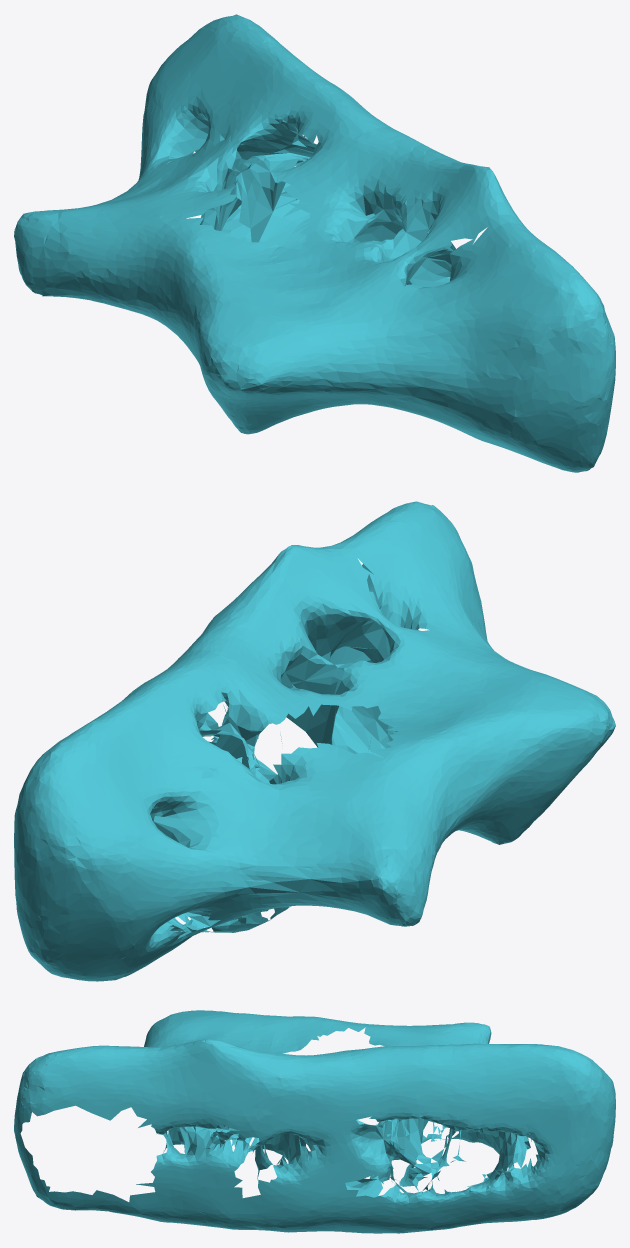
3 views of the same model, one above another, from view 1: azimuth 30°, elevation 25°; view 2: azimuth 150°, elevation 25°; view 3: azimuth 270°, elevation 25° (orthographic). The views are drawn at different scales.
Parts seen in each view (by area): view 1: Renderer Node; view 2: Renderer Node; view 3: Renderer Node.
Boxes of the visible parts, bbox=[...] form: Renderer Node: bbox=[14, 14, 615, 472]; Renderer Node: bbox=[14, 501, 615, 981]; Renderer Node: bbox=[14, 1010, 615, 1233].
Bounding box in the file's own units: 0.3727 × 0.2847 × 0.7813.
1 material, 1 textured.
